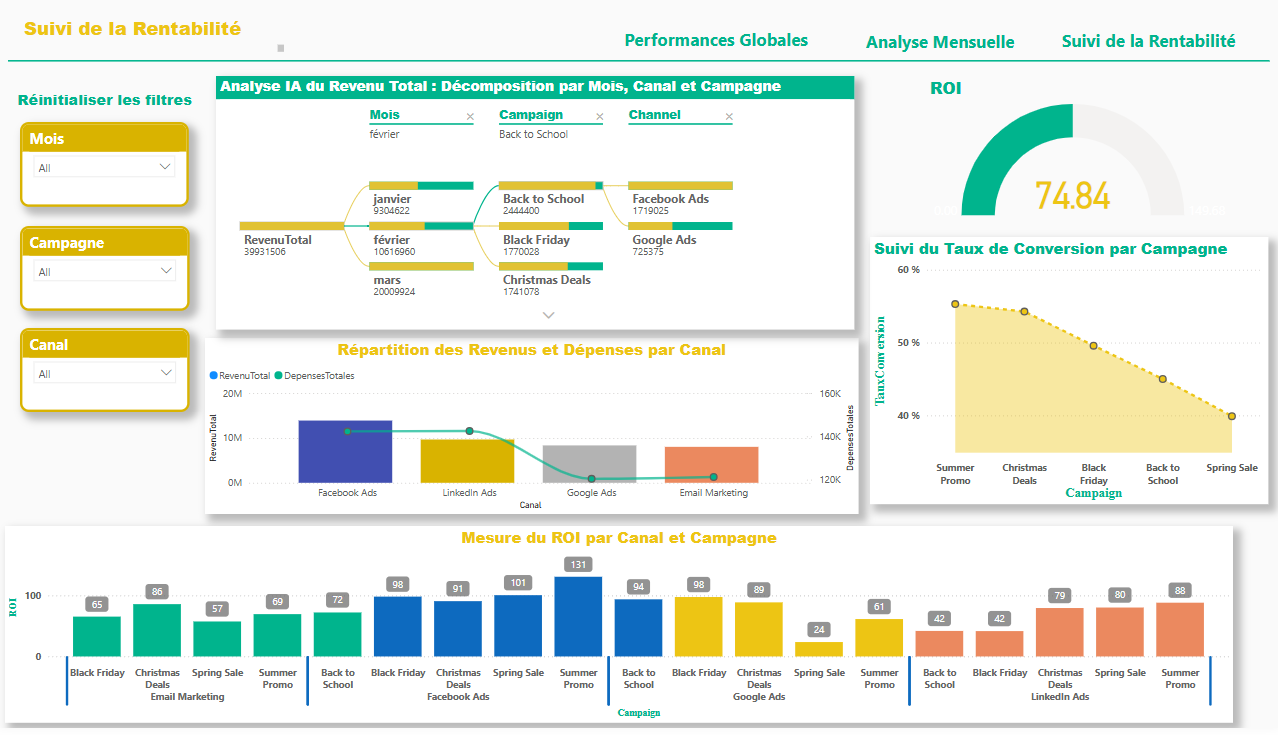

What the dashboard file says about the page in this screenshot:
{"tool":"powerbi","page":{"name":"Suivi de la Rentabilité","canvas":[1600,920],"ordinal":2},"visuals":[{"type":"shape","box":[10.8,80,1576.9,12.3],"z":0},{"type":"textbox","title":"Suivi de la Rentabilité","box":[26.2,29.2,335.4,50.8],"z":1000},{"type":"actionButton","box":[752.3,40,287.7,38.5],"z":2000},{"type":"actionButton","box":[1052.3,41.5,247.7,40],"z":3000},{"type":"actionButton","box":[1300,41.5,273.8,36.9],"z":4000},{"type":"slicer","title":"Mois","fields":{"Values":["marketing_campaigns.Date.Variation.Hiérarchie de dates.Mois"]},"box":[26.2,163.1,210.8,106.2],"z":5000},{"type":"slicer","title":"Campagne","fields":{"Values":["marketing_campaigns.Campaign"]},"box":[26.2,292.3,212.3,106.2],"z":6000},{"type":"slicer","title":"Canal","fields":{"Values":["marketing_campaigns.Channel"]},"box":[26.2,420,212.3,104.6],"z":7000},{"type":"actionButton","box":[7.7,106.2,249.2,56.9],"z":8000},{"type":"gauge","fields":{"Y":["marketing_campaigns.ROI"]},"box":[1158.5,104.6,384.6,186.2],"z":9000},{"type":"lineStackedColumnComboChart","title":"Répartition des Revenus et Dépenses par Canal","fields":{"Category":["marketing_campaigns.Channel"],"Y":["marketing_campaigns.RevenuTotal"],"Y2":["marketing_campaigns.DepensesTotales"]},"box":[256.9,432.3,816.9,220],"z":10000},{"type":"lineChart","title":"Suivi du Taux de Conversion par Campagne","fields":{"Category":["marketing_campaigns.Campaign"],"Y":["marketing_campaigns.TauxConversion"]},"box":[1089.2,306.2,498.5,333.8],"z":11000},{"type":"lineStackedColumnComboChart","title":"Mesure du ROI par Canal et Campagne","fields":{"Category":["marketing_campaigns.Channel","marketing_campaigns.Campaign"],"Y":["marketing_campaigns.ROI"]},"box":[7.7,667.7,1535.4,246.2],"z":12000},{"type":"decompositionTreeVisual","title":"Analyse IA du Revenu Total : Décomposition par Mois, Canal et Campagne","fields":{"Analyze":["marketing_campaigns.RevenuTotal"],"ExplainBy":["marketing_campaigns.Date.Variation.Hiérarchie de dates.Mois","marketing_campaigns.Campaign","marketing_campaigns.Channel"]},"box":[270.8,104.6,798.5,316.9],"z":13000}]}

Visuals, with their boxes in screenshot pixels (x1, y1, x2, y2), scaled from the page's 1600x920 canvas onto the 1278x735 screenshot:
shape: <region>9, 64, 1268, 74</region>
"Suivi de la Rentabilité" textbox: <region>21, 23, 289, 64</region>
actionButton: <region>601, 32, 831, 63</region>
actionButton: <region>841, 33, 1038, 65</region>
actionButton: <region>1038, 33, 1257, 63</region>
"Mois" slicer: <region>21, 130, 189, 215</region>
"Campagne" slicer: <region>21, 234, 191, 318</region>
"Canal" slicer: <region>21, 336, 191, 419</region>
actionButton: <region>6, 85, 205, 130</region>
gauge - marketing_campaigns.ROI: <region>925, 84, 1233, 232</region>
"Répartition des Revenus et Dépenses par Canal" lineStackedColumnComboChart: <region>205, 345, 858, 521</region>
"Suivi du Taux de Conversion par Campagne" lineChart: <region>870, 245, 1268, 511</region>
"Mesure du ROI par Canal et Campagne" lineStackedColumnComboChart: <region>6, 533, 1233, 730</region>
"Analyse IA du Revenu Total : Décomposition par Mois, Canal et Campagne" decompositionTreeVisual: <region>216, 84, 854, 337</region>
